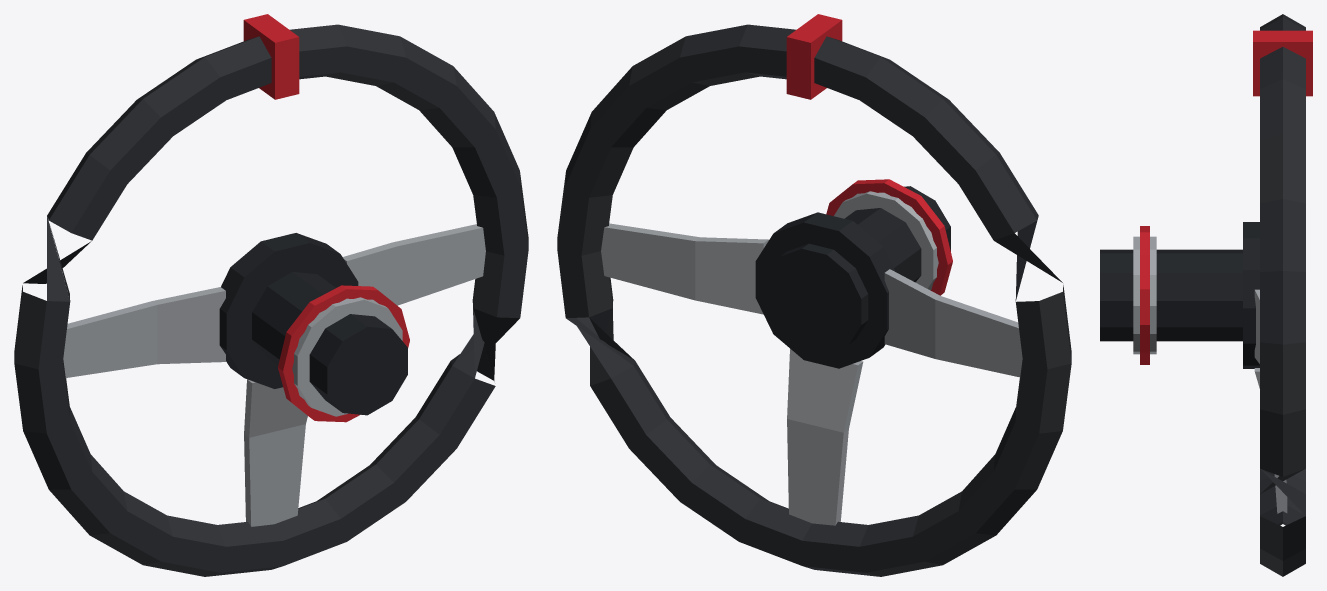
Rendered from hana_roadster.glb.
3 views of the same model, side by side, from view 1: azimuth 30°, elevation 25°; view 2: azimuth 150°, elevation 25°; view 3: azimuth 270°, elevation 25° (orthographic). The views are drawn at different scales.
Parts seen in each view (by area): view 1: model; view 2: model; view 3: model.
Boxes of the visible parts, bbox=[...] form: model: bbox=[14, 14, 528, 576]; model: bbox=[557, 14, 1071, 576]; model: bbox=[1100, 14, 1312, 576].
Size of the model in its own units: 0.34 by 0.342 by 0.128.
Materials: 3 (1 with a texture image).
